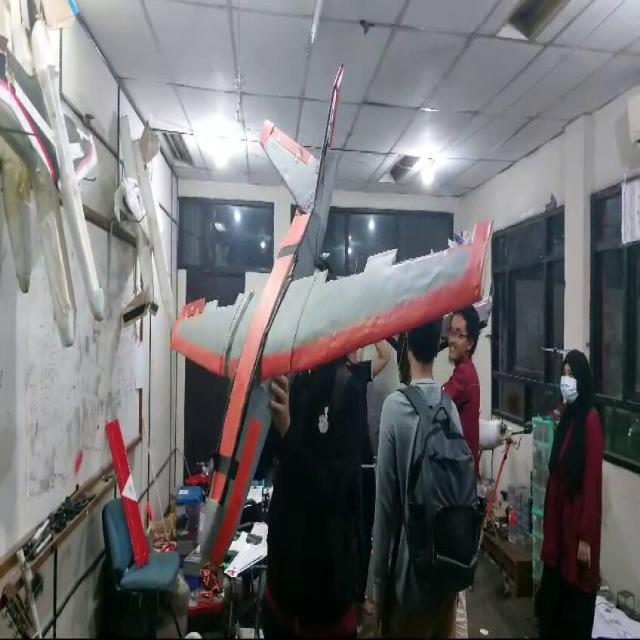plane: (168, 60, 494, 577)
